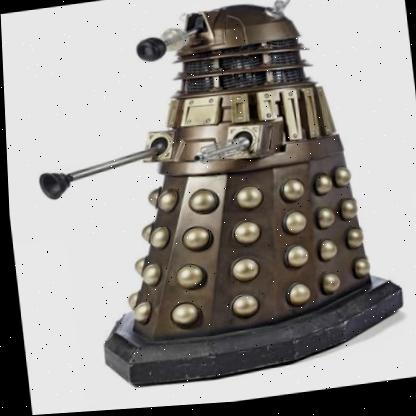dalek: (19, 0, 416, 412)
